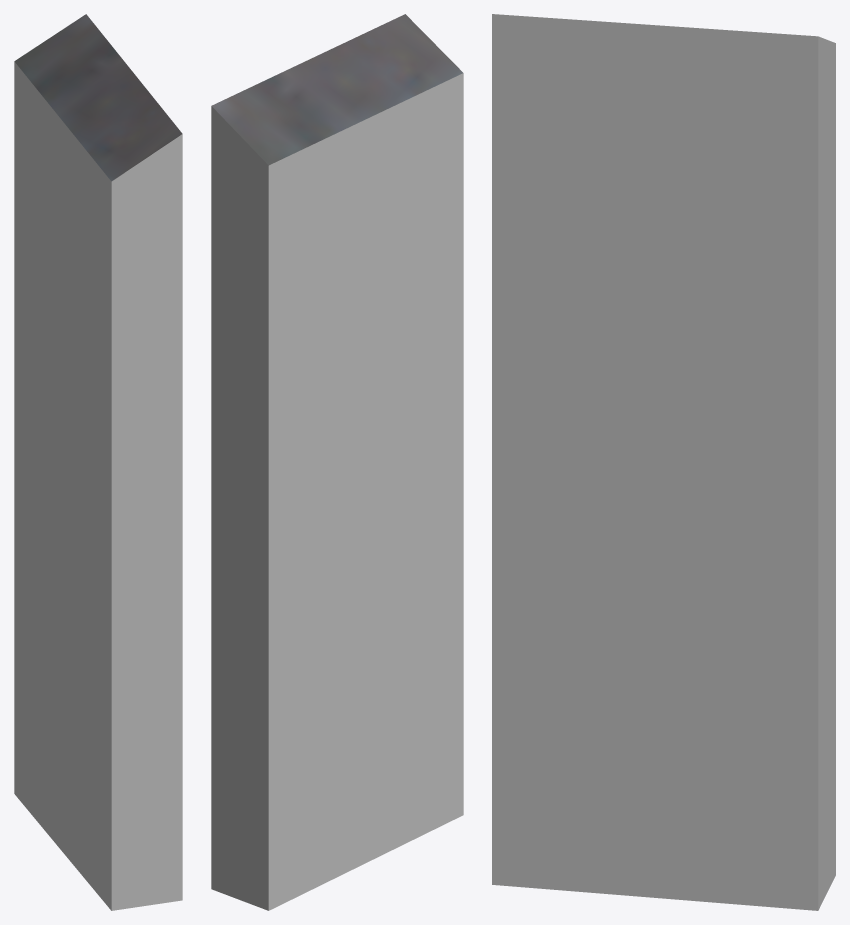
File: DEBW_0010007THXj.gltf
The picture shows the model from 3 angles, left to right: view 1: azimuth 30°, elevation 25°; view 2: azimuth 150°, elevation 25°; view 3: azimuth 270°, elevation 25°; orthographic projection. The views are drawn at different scales.
Visible parts, largest first — view 1: Z_UP; view 2: Z_UP; view 3: Z_UP.
Part boxes in pixels (<box>): Z_UP: <box>14,14,182,910</box>; Z_UP: <box>211,14,463,910</box>; Z_UP: <box>492,14,835,910</box>.
Bounding box in the file's own units: 2.48 × 16.39 × 5.84.
2 materials, 1 textured.
